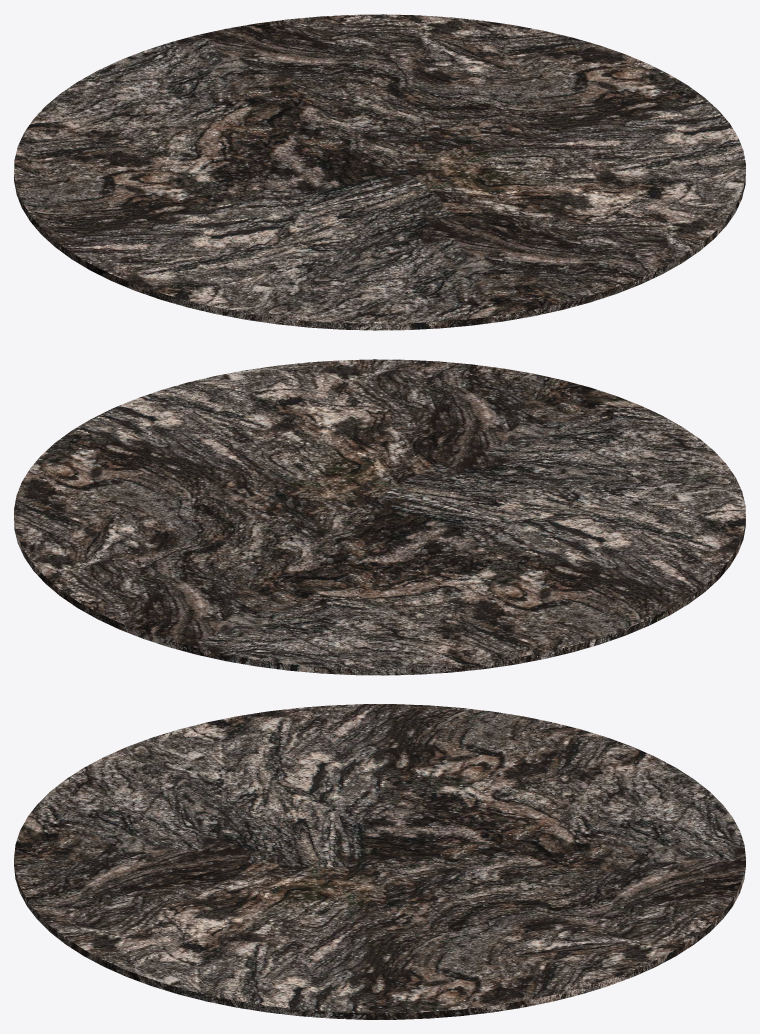
Rendered from RoundTable.glb.
The picture shows the model from 3 angles, top to bottom: view 1: azimuth 30°, elevation 25°; view 2: azimuth 150°, elevation 25°; view 3: azimuth 270°, elevation 25°; orthographic projection.
Visible parts, largest first — view 1: Circle.001; view 2: Circle.001; view 3: Circle.001.
Part boxes in pixels (x1,y1,x2,y2): Circle.001: [14, 14, 745, 330]; Circle.001: [14, 359, 745, 675]; Circle.001: [14, 704, 745, 1019].
Bounding box in the file's own units: 2 × 0.02 × 2.
1 material, 1 textured.
